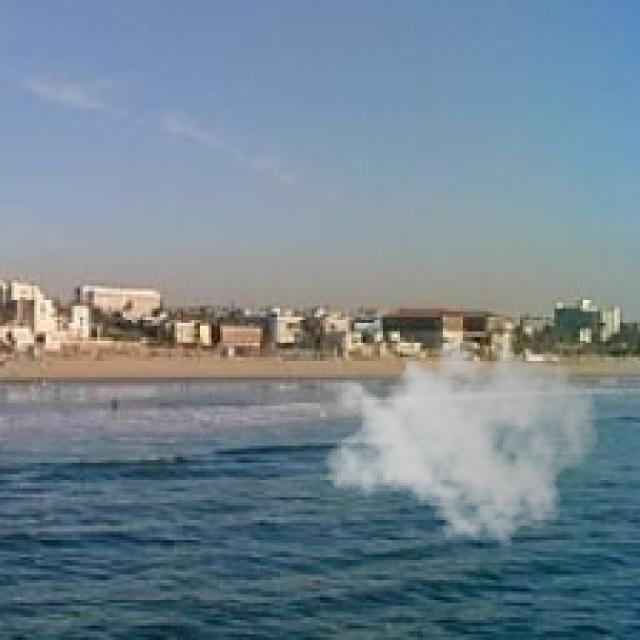smoke: (323, 317, 600, 554)
